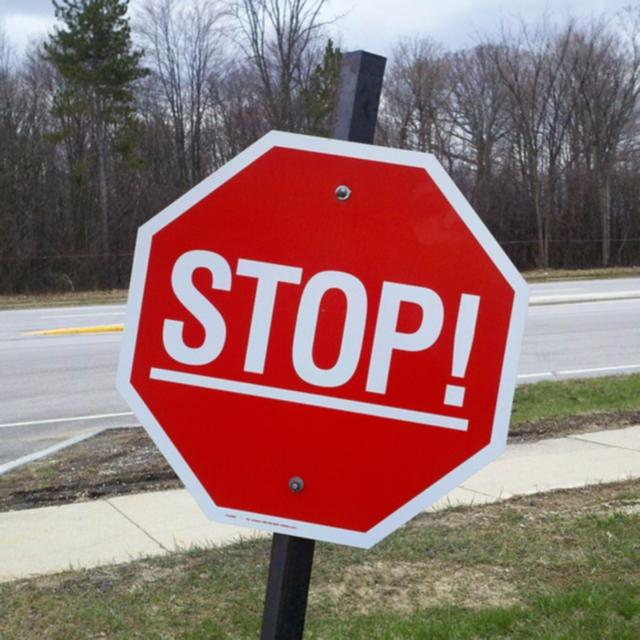pole: (257, 50, 395, 636)
